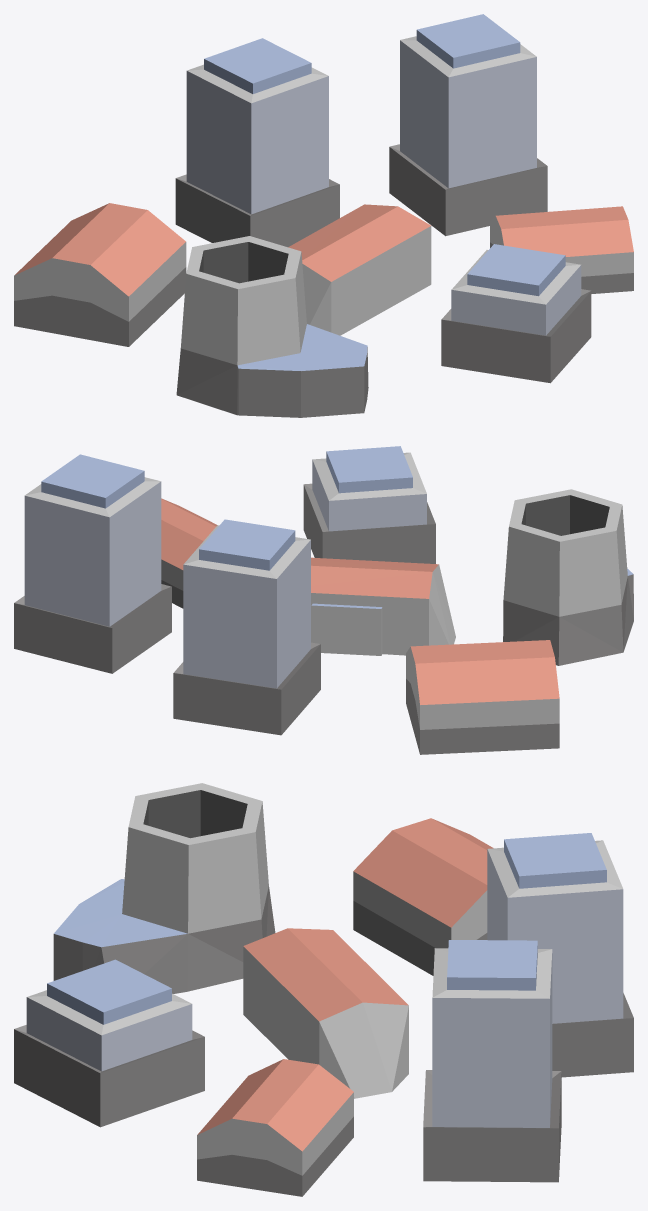
Rendered from beta02_01_m.dae.
3 views of the same model, one above another, from view 1: azimuth 30°, elevation 25°; view 2: azimuth 150°, elevation 25°; view 3: azimuth 270°, elevation 25° (orthographic). The views are drawn at different scales.
Parts seen in each view (by area): view 1: Cube; view 2: Cube; view 3: Cube.
Boxes of the visible parts, box(x1,y1,x2,y2) form: Cube: box(14, 14, 633, 417); Cube: box(14, 446, 633, 754); Cube: box(14, 783, 633, 1196).
Size of the model in its own units: 1.84 by 1.6 by 0.5692.
